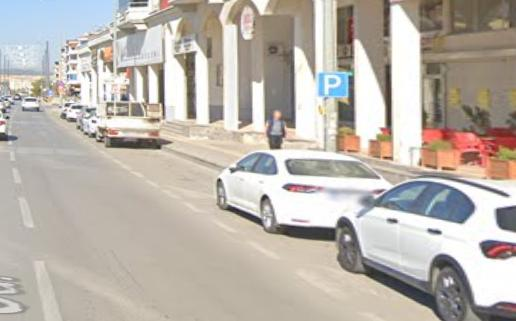park: (317, 71, 347, 97)
